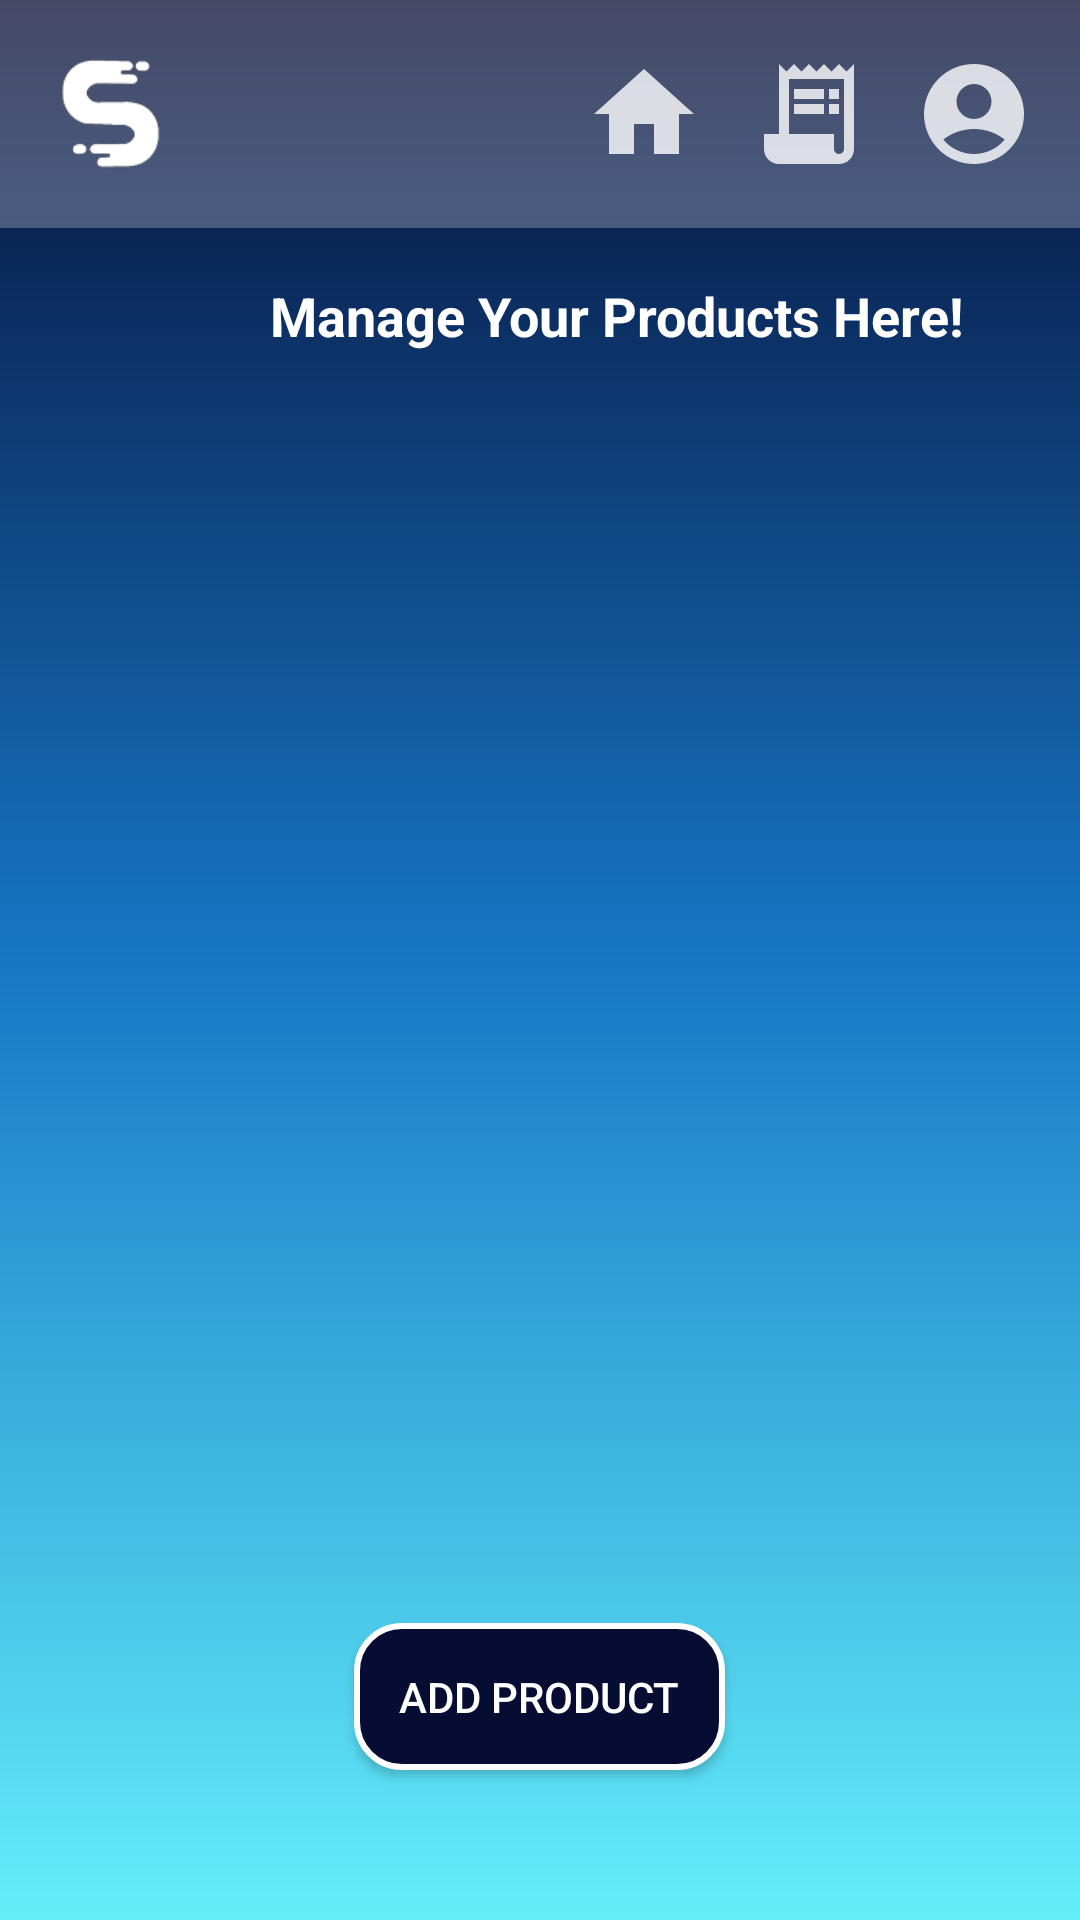

Icons on this 1080 x 1920 Android screen, each with the point to tap as (x,y):
Accounts: (974,114)
Home: (644,111)
Orders: (809,114)
